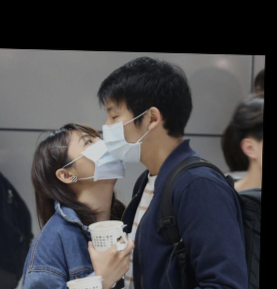with_mask: (68, 132, 128, 180), (101, 105, 148, 159)
